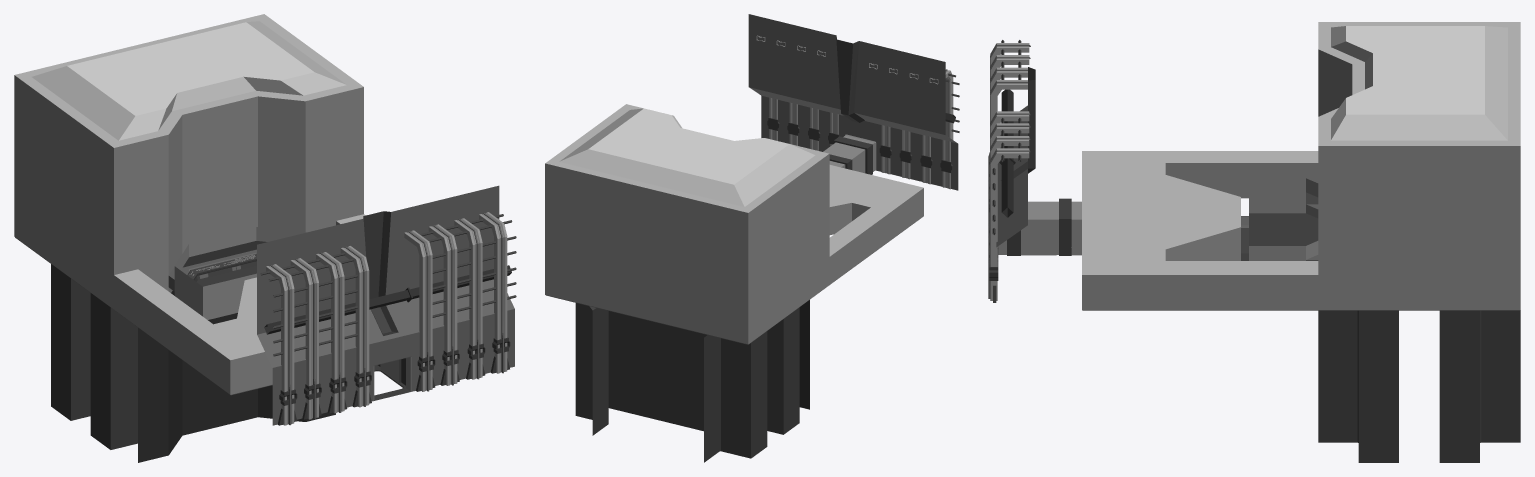
File: factory_server.FBX
3 renders of one model, left to right at view 1: azimuth 30°, elevation 25°; view 2: azimuth 150°, elevation 25°; view 3: azimuth 270°, elevation 25°, orthographic. The views are drawn at different scales.
Parts seen in each view (by area): view 1: factory_server_walls_ceiling, factory_server_entrance, factory_server_ground, factory_server_console_A; view 2: factory_server_walls_ceiling, factory_server_entrance, factory_server_ground; view 3: factory_server_walls_ceiling, factory_server_ground, factory_server_entrance.
Part boxes in pixels (x1,y1,x2,y2): factory_server_walls_ceiling: (14,14,365,462); factory_server_entrance: (257,185,516,425); factory_server_ground: (51,241,411,449); factory_server_console_A: (187,254,256,281); factory_server_walls_ceiling: (545,104,923,409); factory_server_entrance: (748,14,959,190); factory_server_ground: (575,303,799,462); factory_server_walls_ceiling: (1071,22,1520,310); factory_server_ground: (1021,213,1520,462); factory_server_entrance: (988,40,1081,302).
Size of the model in its own units: 1237 by 1580 by 2248.
